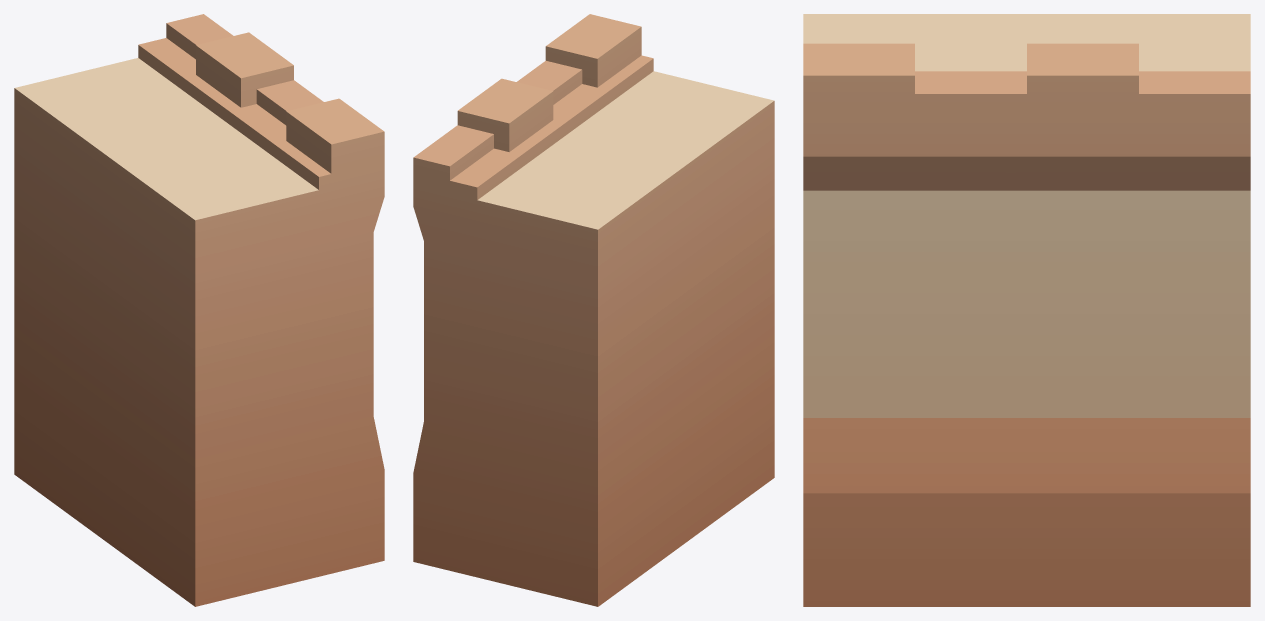
Rendered from wall-half-modular.glb.
The picture shows the model from 3 angles, left to right: view 1: azimuth 30°, elevation 25°; view 2: azimuth 150°, elevation 25°; view 3: azimuth 270°, elevation 25°; orthographic projection. The views are drawn at different scales.
Parts seen in each view (by area): view 1: wall-half-modular; view 2: wall-half-modular; view 3: wall-half-modular.
Boxes of the visible parts, x1,y1,x2,y2 form: wall-half-modular: (14,14,384,606); wall-half-modular: (413,14,774,606); wall-half-modular: (803,14,1250,606).
Size of the model in its own units: 0.6045 by 1.31 by 1.
Materials: 1 (1 with a texture image).
